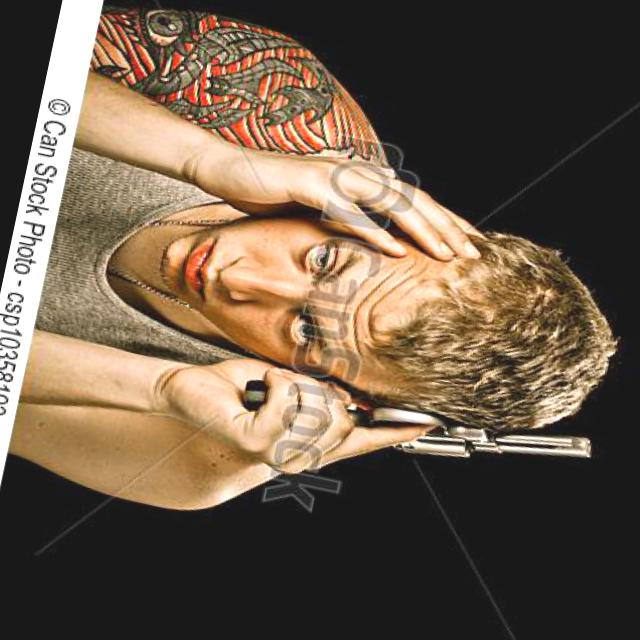handgun: (233, 353, 599, 492)
